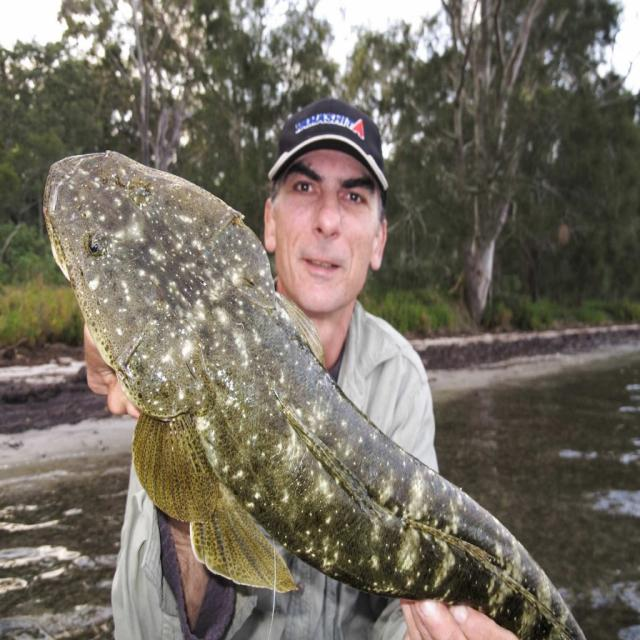Flathead: (31, 133, 589, 640)
